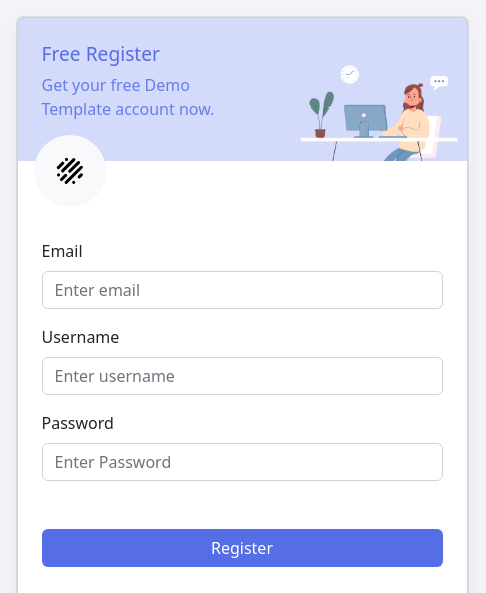
Test: Register page testing › Input field is empty
This screenshot has width=486, height=593.
Expected: the field with placeholder "Enter email" is shown, 42,271 -> 442,309
Expected: the field with placeholder "Enter username" is shown, 42,357 -> 442,395
Click the button with class "login-btn" at coordinates (243, 548), box 42,529 -> 443,567
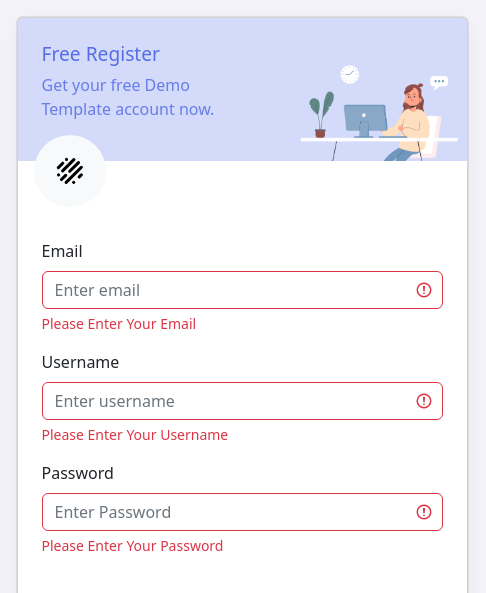
Result: the text "Please Enter Your Email" is shown at 42,314 -> 196,333
Result: the text "Please Enter Your Username" is shown at 42,425 -> 228,444
Result: the text "Please Enter Your Password" is shown at 42,536 -> 224,555
